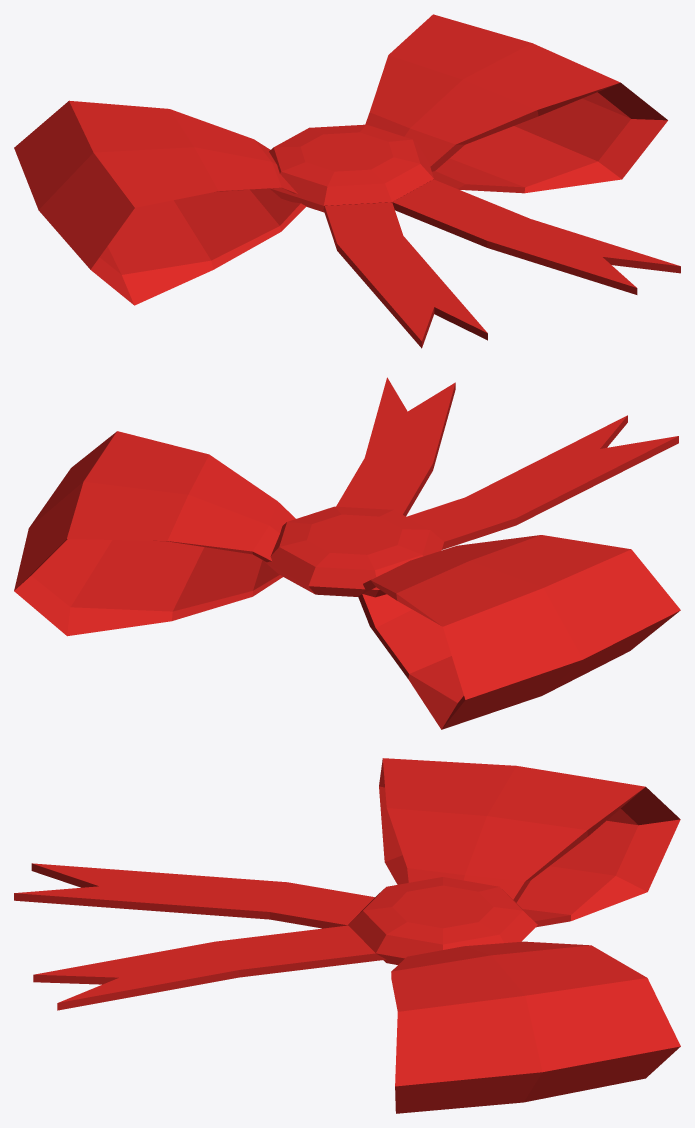
The model's file is bow.fbx.
3 views of the same model, one above another, from view 1: azimuth 30°, elevation 25°; view 2: azimuth 150°, elevation 25°; view 3: azimuth 270°, elevation 25° (orthographic). The views are drawn at different scales.
Parts seen in each view (by area): view 1: bow.001; view 2: bow.001; view 3: bow.001.
Part boxes in pixels (x1=…): bow.001: x1=14, y1=14, x2=680, y2=348; bow.001: x1=14, y1=377, x2=680, y2=729; bow.001: x1=14, y1=758, x2=680, y2=1113.
Size of the model in its own units: 19.2 by 3.27 by 17.96.
